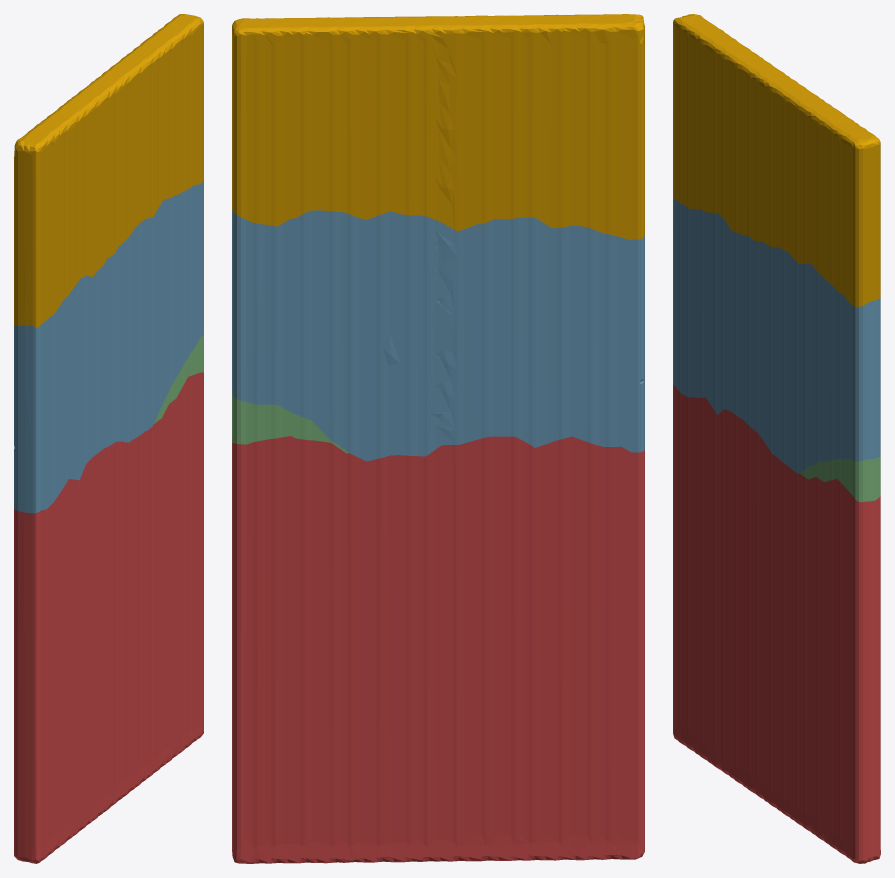
Rendered from fractured_54_4pcs.glb.
The picture shows the model from 3 angles, left to right: view 1: azimuth 30°, elevation 25°; view 2: azimuth 150°, elevation 25°; view 3: azimuth 270°, elevation 25°; orthographic projection. The views are drawn at different scales.
Visible parts, largest first — view 1: piece_1.obj, piece_2.obj, piece_0.obj, piece_3.obj; view 2: piece_1.obj, piece_2.obj, piece_0.obj, piece_3.obj; view 3: piece_1.obj, piece_2.obj, piece_0.obj, piece_3.obj.
Boxes of the visible parts, box(x1,y1,x2,y2) form: piece_1.obj: box(14, 372, 203, 863); piece_2.obj: box(14, 181, 203, 513); piece_0.obj: box(14, 14, 203, 327); piece_3.obj: box(154, 334, 203, 423); piece_1.obj: box(232, 436, 644, 863); piece_2.obj: box(232, 208, 644, 461); piece_0.obj: box(232, 14, 644, 239); piece_3.obj: box(232, 390, 349, 453); piece_1.obj: box(673, 384, 880, 863); piece_2.obj: box(673, 199, 880, 473); piece_0.obj: box(673, 14, 880, 307); piece_3.obj: box(799, 456, 880, 502).
Bounding box in the file's own units: 0.3933 × 1 × 0.2607.
